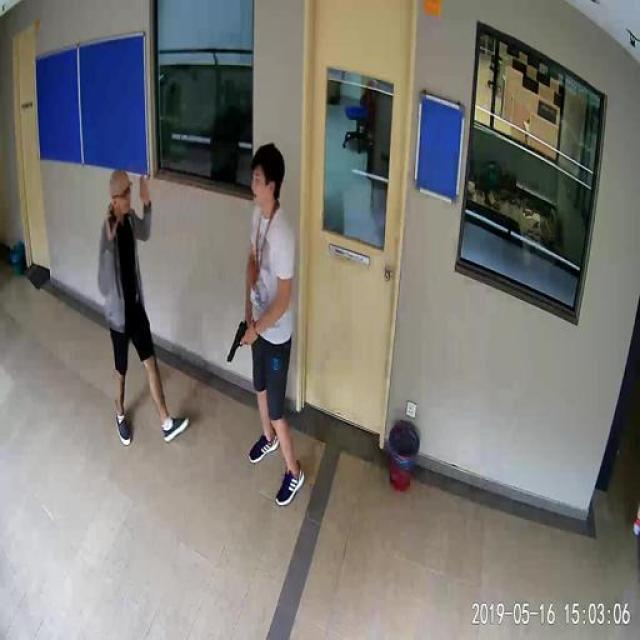Gun: (228, 316, 259, 372)
